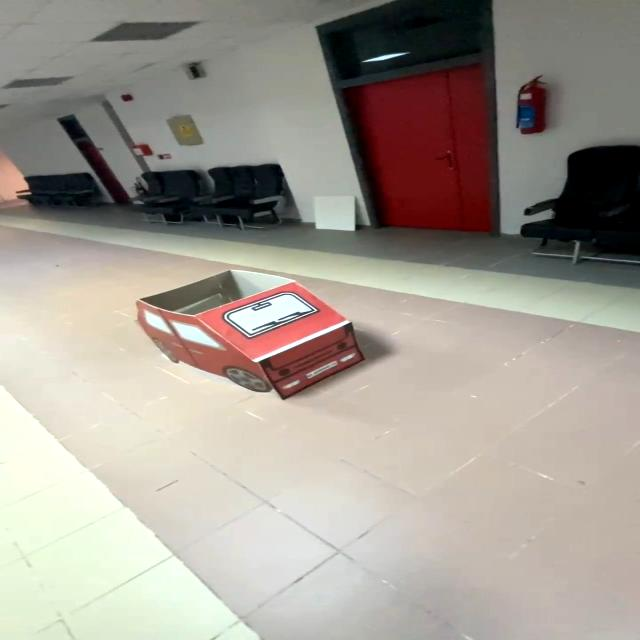red_car: (121, 258, 389, 427)
